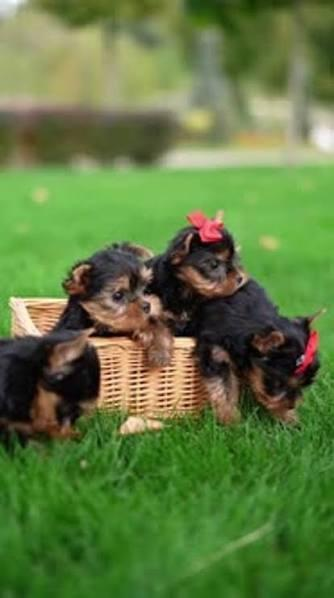puppy-dog: (186, 277, 326, 430), (42, 240, 176, 371), (145, 212, 249, 338), (1, 329, 103, 443)
